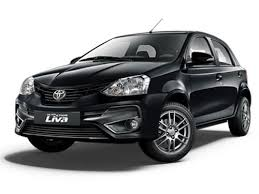Toyota: (18, 34, 241, 146)
